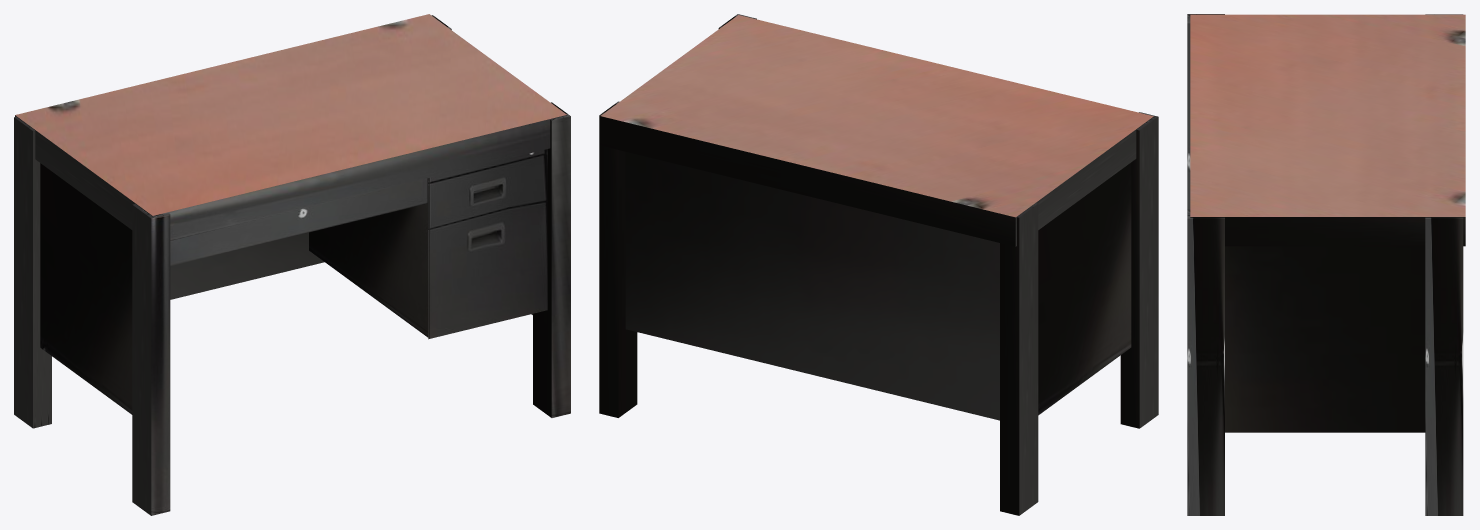
The model's file is desk.glb.
3 views of the same model, side by side, from view 1: azimuth 30°, elevation 25°; view 2: azimuth 150°, elevation 25°; view 3: azimuth 270°, elevation 25° (orthographic).
Visible parts, largest first — view 1: desk_model; view 2: desk_model; view 3: desk_model.
Boxes of the visible parts, <box> form: desk_model: <box>14,14,570,515</box>; desk_model: <box>599,14,1158,515</box>; desk_model: <box>1187,14,1465,515</box>.
Bounding box in the file's own units: 1.11 × 0.7555 × 0.64.
1 material, 1 textured.
